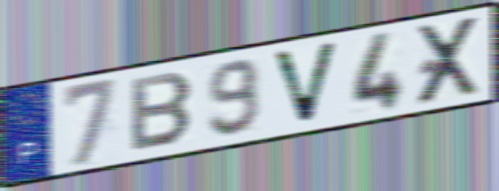4: (348, 28, 408, 114)
7: (60, 73, 119, 170)
9: (205, 57, 265, 138)
B: (128, 69, 197, 154)
V: (268, 39, 342, 127)
X: (414, 12, 484, 109)
